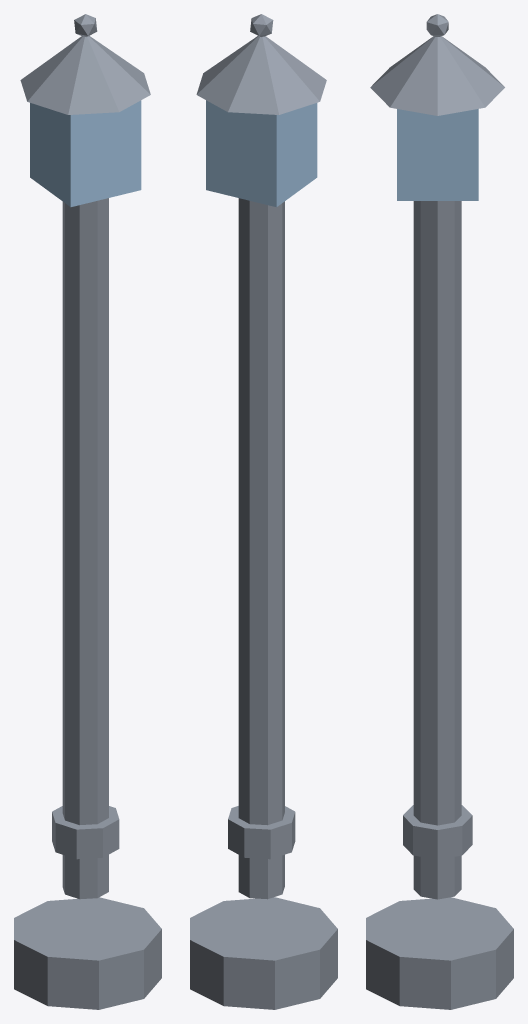
The model's file is street_lamp.fbx.
The picture shows the model from 3 angles, left to right: view 1: azimuth 30°, elevation 25°; view 2: azimuth 150°, elevation 25°; view 3: azimuth 270°, elevation 25°; orthographic projection.
Parts seen in each view (by area): view 1: street_lamp; view 2: street_lamp; view 3: street_lamp.
Part boxes in pixels (box(x1,y1,x2,y2)): street_lamp: box(14, 14, 161, 1009); street_lamp: box(190, 14, 337, 1009); street_lamp: box(366, 14, 513, 1009).
Size of the model in its own units: 134 by 950 by 132.
